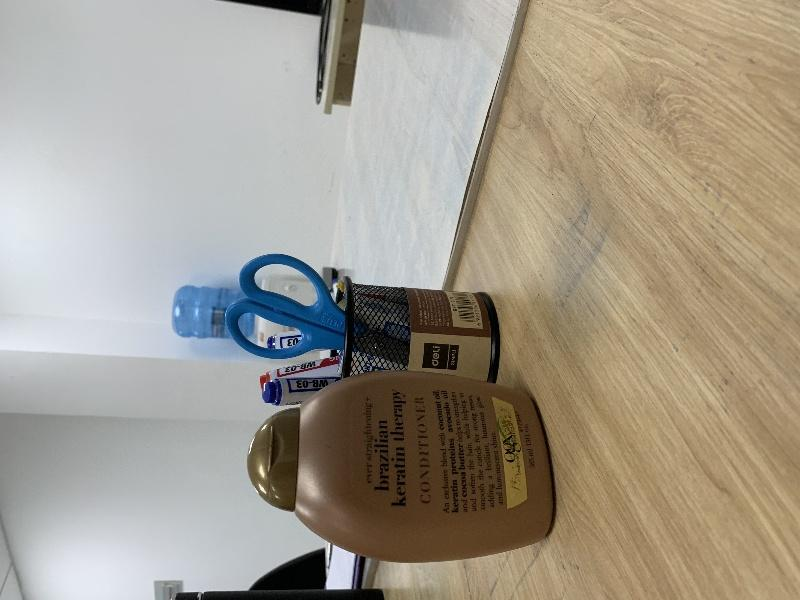BrazilianKerationTherapy_Conditioner: (247, 369, 555, 564)
